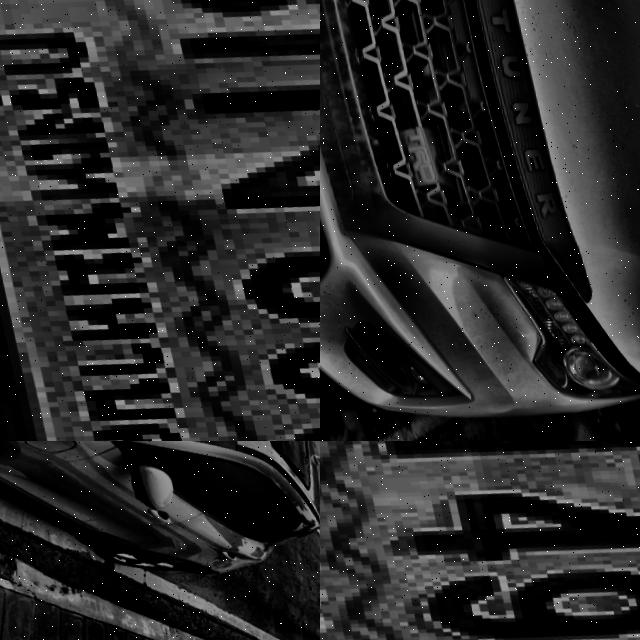license-plate: (0, 0, 320, 441), (320, 441, 640, 640)
